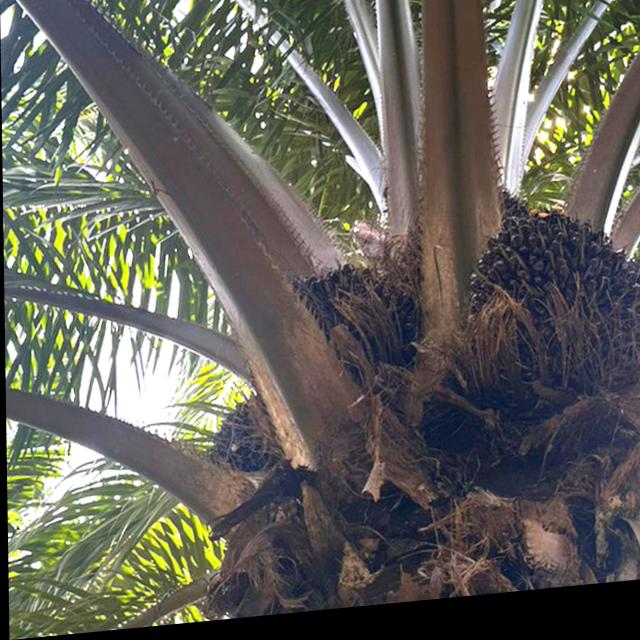almost: (456, 190, 640, 432), (284, 234, 426, 424), (195, 385, 282, 511)
